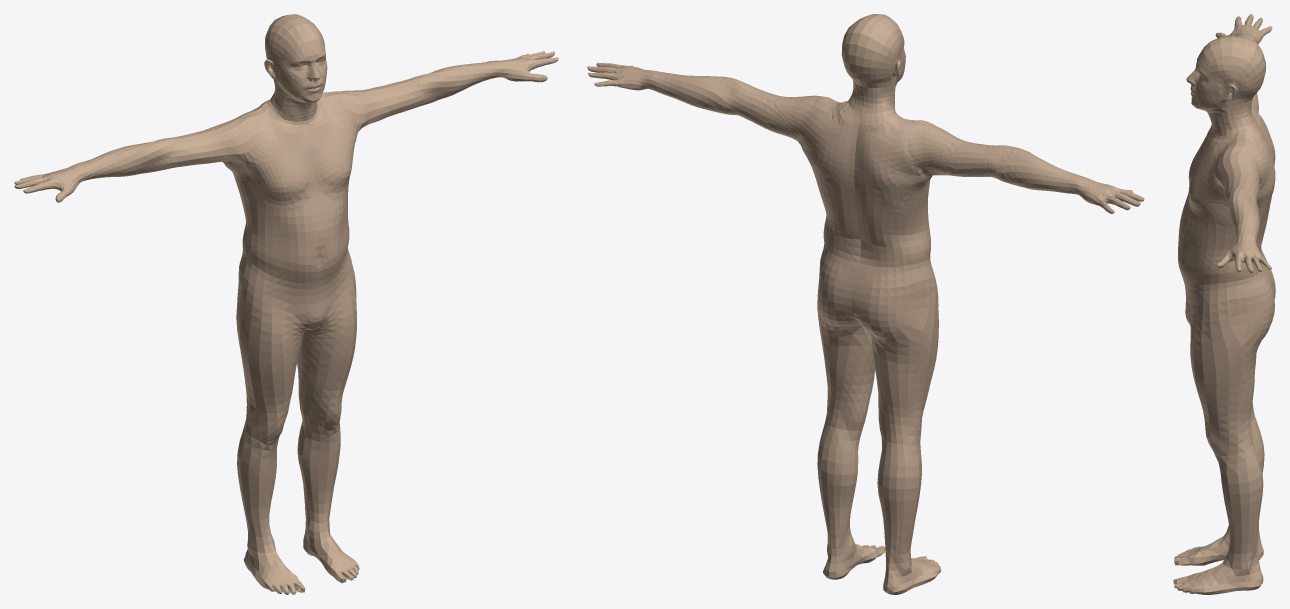
Rendered from avatar.glb.
3 renders of one model, left to right at view 1: azimuth 30°, elevation 25°; view 2: azimuth 150°, elevation 25°; view 3: azimuth 270°, elevation 25°, orthographic. The views are drawn at different scales.
Visible parts, largest first — view 1: world; view 2: world; view 3: world.
Part boxes in pixels (<box>): world: <box>14,14,558,594</box>; world: <box>587,14,1144,594</box>; world: <box>1173,14,1275,594</box>.
Size of the model in its own units: 1.84 by 1.78 by 0.3076.
